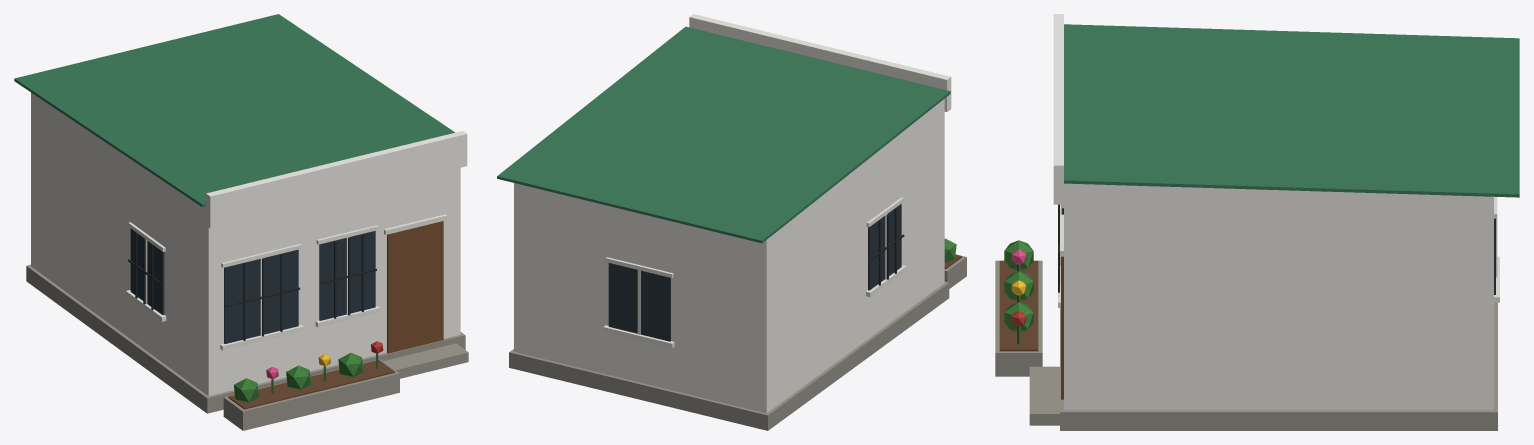
Rendered from BAY_F_Shop_M.glb.
3 renders of one model, left to right at view 1: azimuth 30°, elevation 25°; view 2: azimuth 150°, elevation 25°; view 3: azimuth 270°, elevation 25°, orthographic. The views are drawn at different scales.
Visible parts, largest first — view 1: BAY_F_Shop_M; view 2: BAY_F_Shop_M; view 3: BAY_F_Shop_M.
Part boxes in pixels (<box>): BAY_F_Shop_M: <box>14,14,468,430</box>; BAY_F_Shop_M: <box>497,14,966,430</box>; BAY_F_Shop_M: <box>995,14,1519,430</box>.
Bounding box in the file's own units: 4.3 × 3.4 × 6.1.
1 material, 1 textured.
